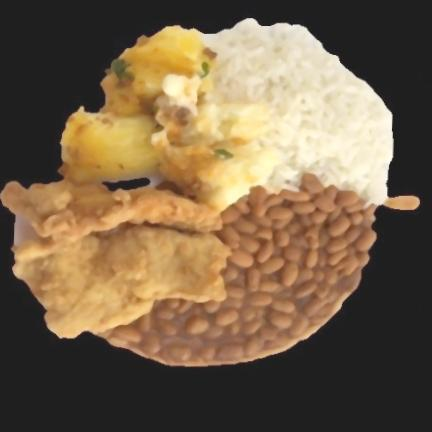beans: (103, 184, 374, 366)
cassava: (61, 27, 205, 182)
chicken: (0, 181, 230, 338)
rice: (207, 19, 392, 204)
